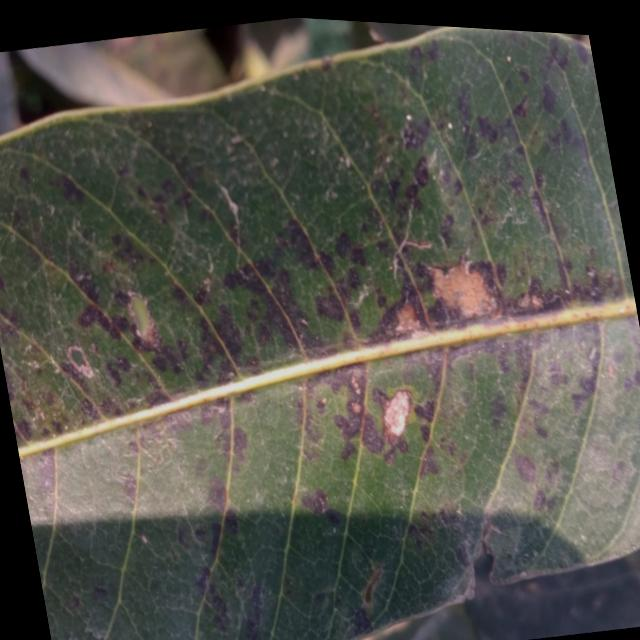Bacterial Cancer: (425, 247, 507, 334), (368, 371, 434, 457)
black die: (179, 273, 317, 486), (301, 211, 380, 335), (63, 233, 146, 349)
